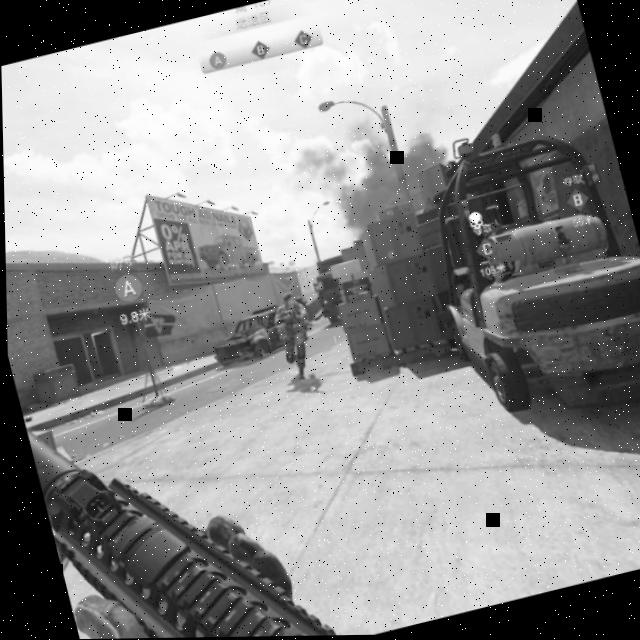MW2_body: (263, 272, 322, 382)
